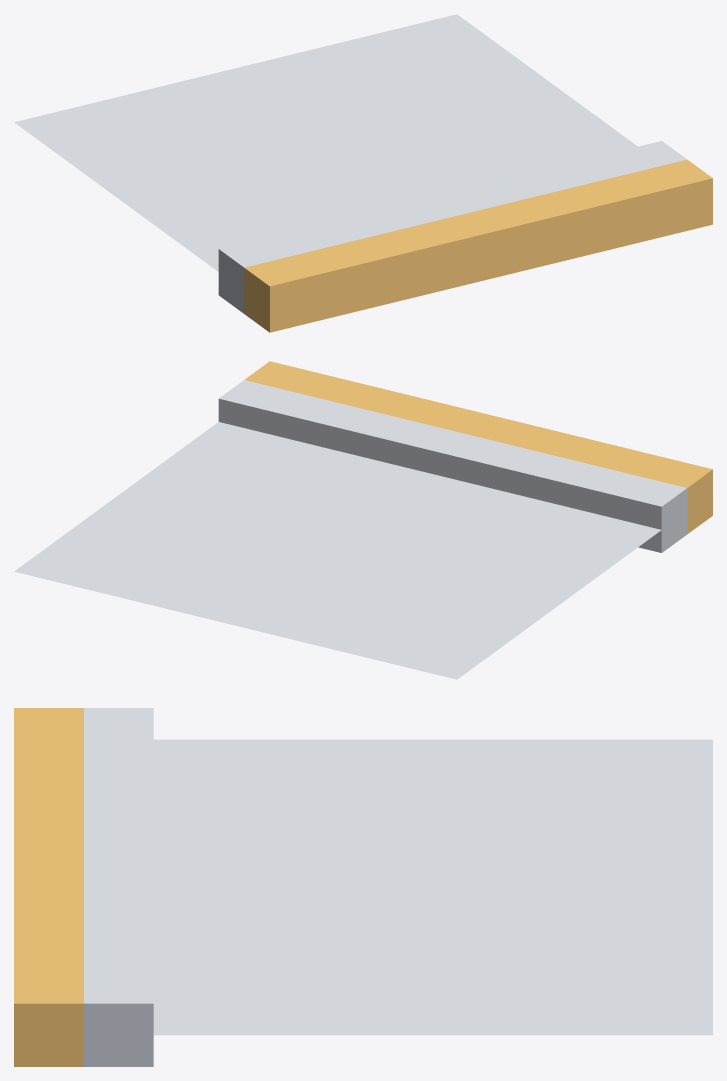
The model's file is platform_side.glb.
3 views of the same model, one above another, from view 1: azimuth 30°, elevation 25°; view 2: azimuth 150°, elevation 25°; view 3: azimuth 270°, elevation 25° (orthographic). The views are drawn at different scales.
Parts seen in each view (by area): view 1: platform_side; view 2: platform_side; view 3: platform_side.
Part boxes in pixels (x1=…): platform_side: x1=14, y1=14, x2=712, y2=332; platform_side: x1=14, y1=361, x2=712, y2=679; platform_side: x1=14, y1=708, x2=712, y2=1066.
Bounding box in the file's own units: 1 × 0.1 × 1.
Materials: 1 (1 with a texture image).
